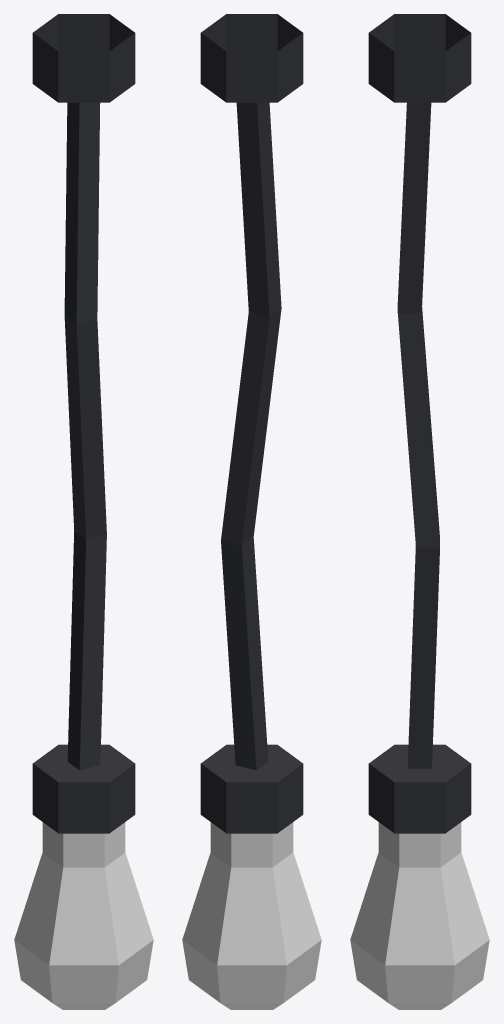
Rendered from SM_Light_A.fbx.
3 renders of one model, left to right at view 1: azimuth 30°, elevation 25°; view 2: azimuth 150°, elevation 25°; view 3: azimuth 270°, elevation 25°, orthographic.
Parts seen in each view (by area): view 1: SM_Light_A; view 2: SM_Light_A; view 3: SM_Light_A.
Part boxes in pixels (x1,y1,x2,y2): SM_Light_A: (14, 14, 153, 1009); SM_Light_A: (182, 14, 321, 1009); SM_Light_A: (350, 14, 489, 1009).
Bounding box in the file's own units: 9.4 × 82.62 × 10.86.
